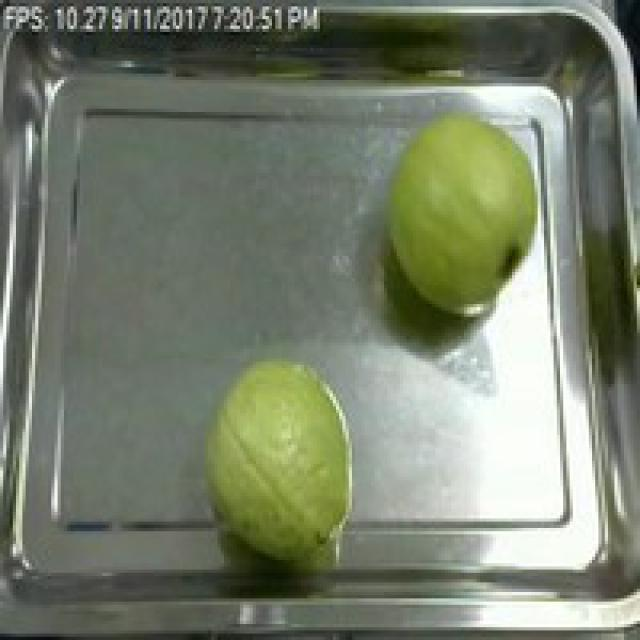Fruit: (372, 96, 566, 330), (195, 349, 371, 566)
